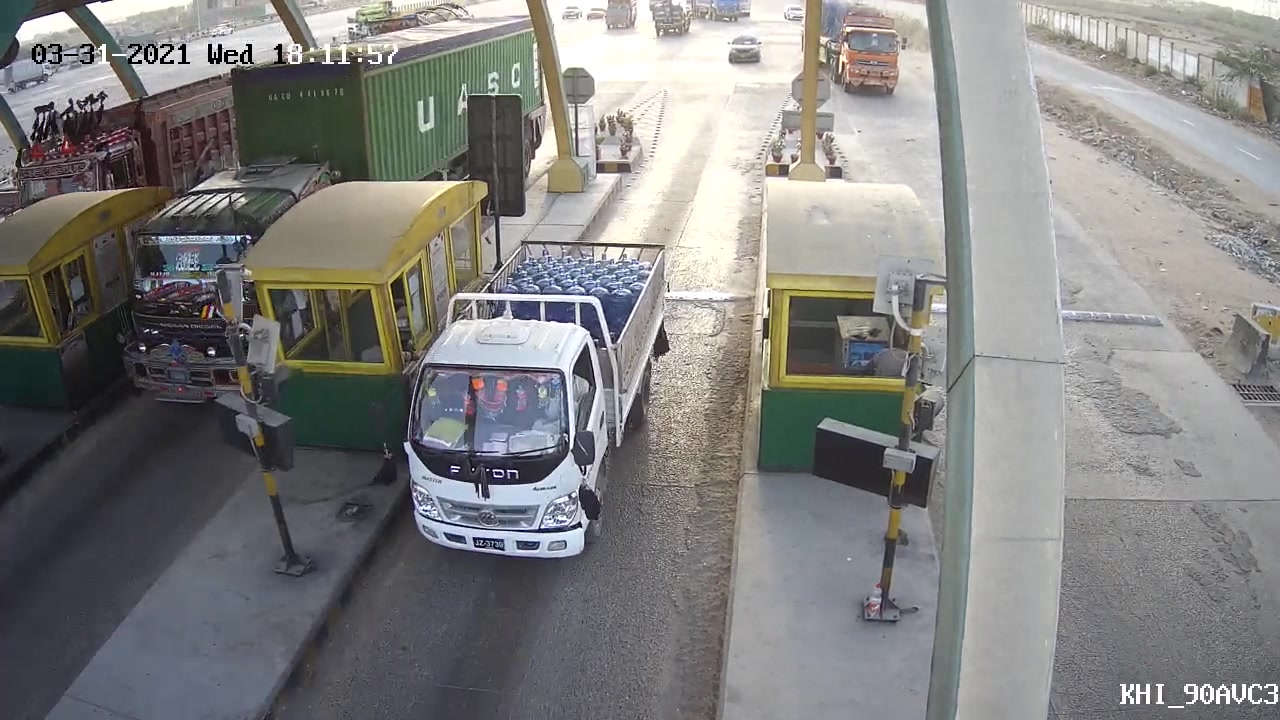F3: (388, 222, 675, 577)
